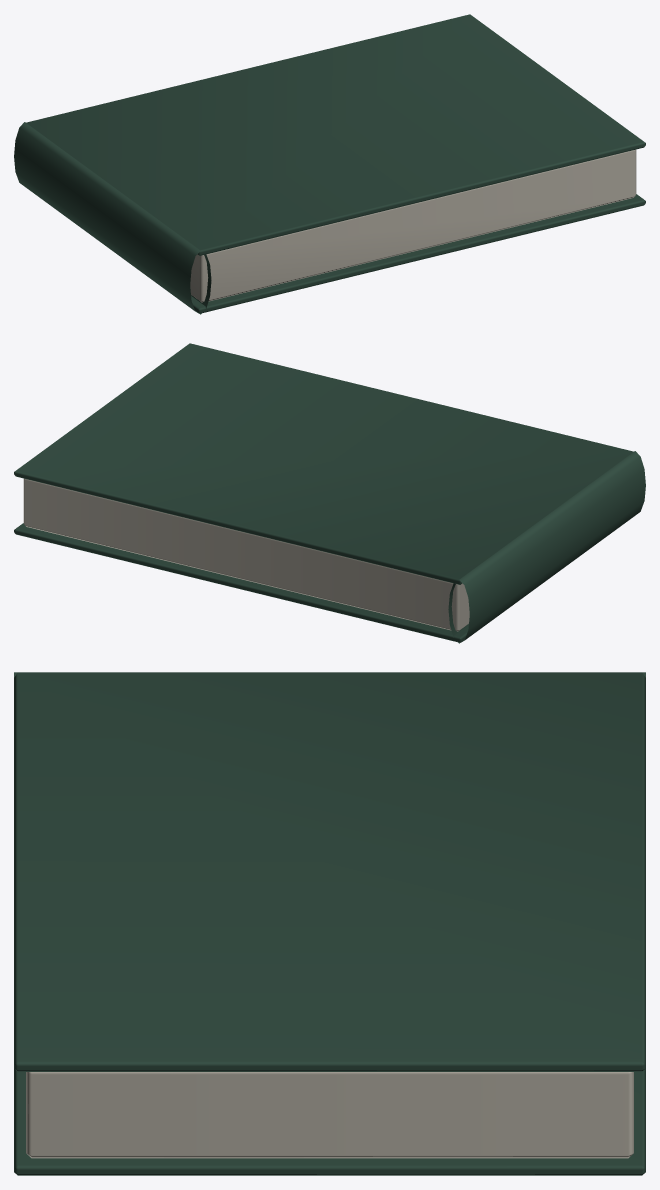
The model's file is ix_book.gltf.
3 views of the same model, one above another, from view 1: azimuth 30°, elevation 25°; view 2: azimuth 150°, elevation 25°; view 3: azimuth 270°, elevation 25° (orthographic). The views are drawn at different scales.
Visible parts, largest first — view 1: IX_Book_Board1, IX_Book_Pages, IX_Book_Spine, IX_Book_Board0; view 2: IX_Book_Board1, IX_Book_Pages, IX_Book_Spine, IX_Book_Board0; view 3: IX_Book_Board1, IX_Book_Pages, IX_Book_Board0.
Part boxes in pixels (box(x1,y1,x2,y2)): IX_Book_Board1: box(26, 14, 645, 255); IX_Book_Pages: box(190, 149, 636, 302); IX_Book_Spine: box(14, 122, 211, 314); IX_Book_Board0: box(191, 194, 645, 313); IX_Book_Board1: box(14, 343, 633, 584); IX_Book_Pages: box(23, 478, 469, 631); IX_Book_Spine: box(448, 451, 645, 643); IX_Book_Board0: box(14, 523, 468, 642); IX_Book_Board1: box(14, 672, 645, 1071); IX_Book_Pages: box(26, 1072, 633, 1158); IX_Book_Board0: box(14, 1068, 645, 1175).
Bounding box in the file's own units: 0.2396 × 0.032 × 0.16.
